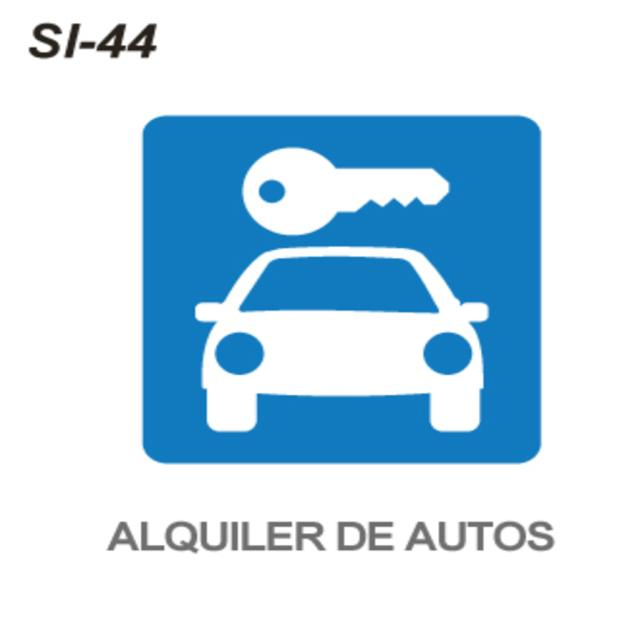car: (177, 242, 515, 440)
